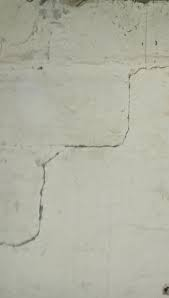stairstep_crack: (0, 63, 167, 247)
